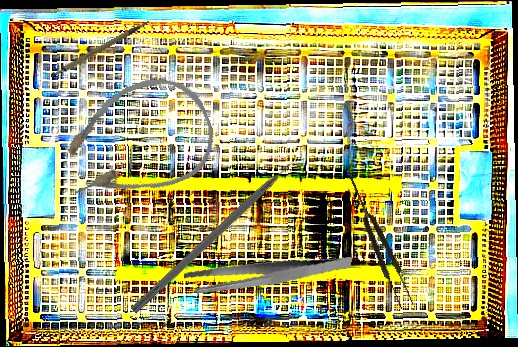Cannula: (46, 63, 227, 220)
Chopper: (130, 152, 312, 323)
Dressing Forceps: (181, 234, 353, 314)
Scalpel Handle: (44, 19, 157, 81)
Tissue Forceps: (340, 166, 416, 311)
